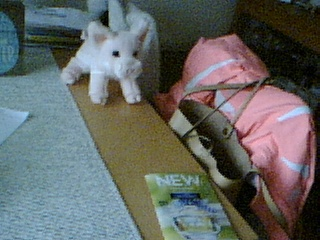piggy: (60, 17, 150, 106)
